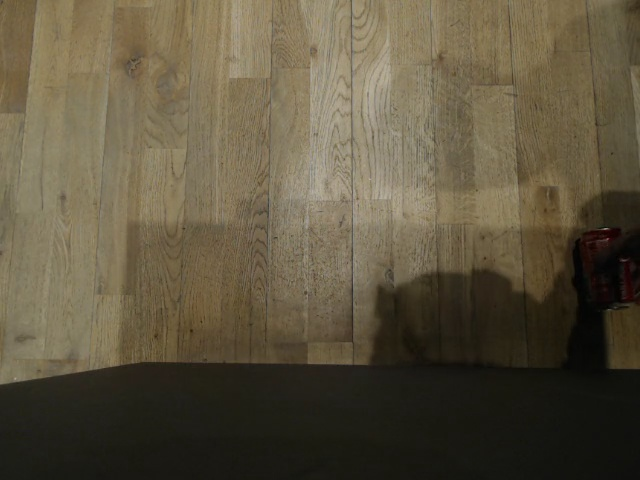cola: (575, 223, 635, 307)
